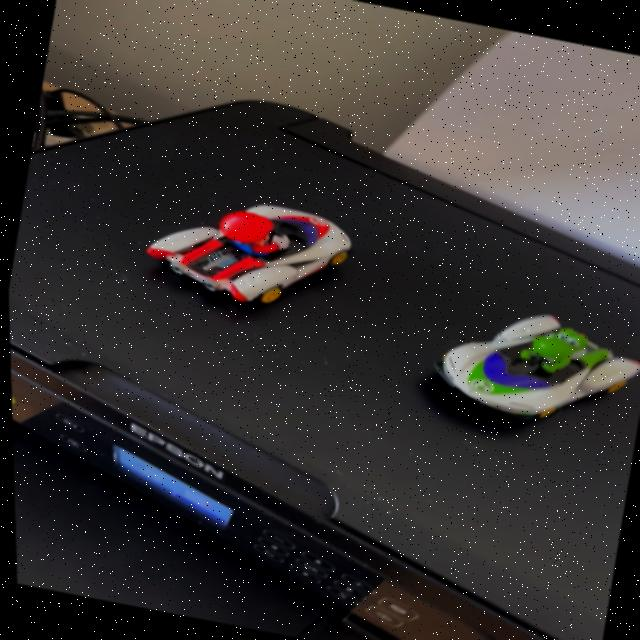mario: (117, 176, 371, 332)
yoshi: (411, 285, 640, 458)
